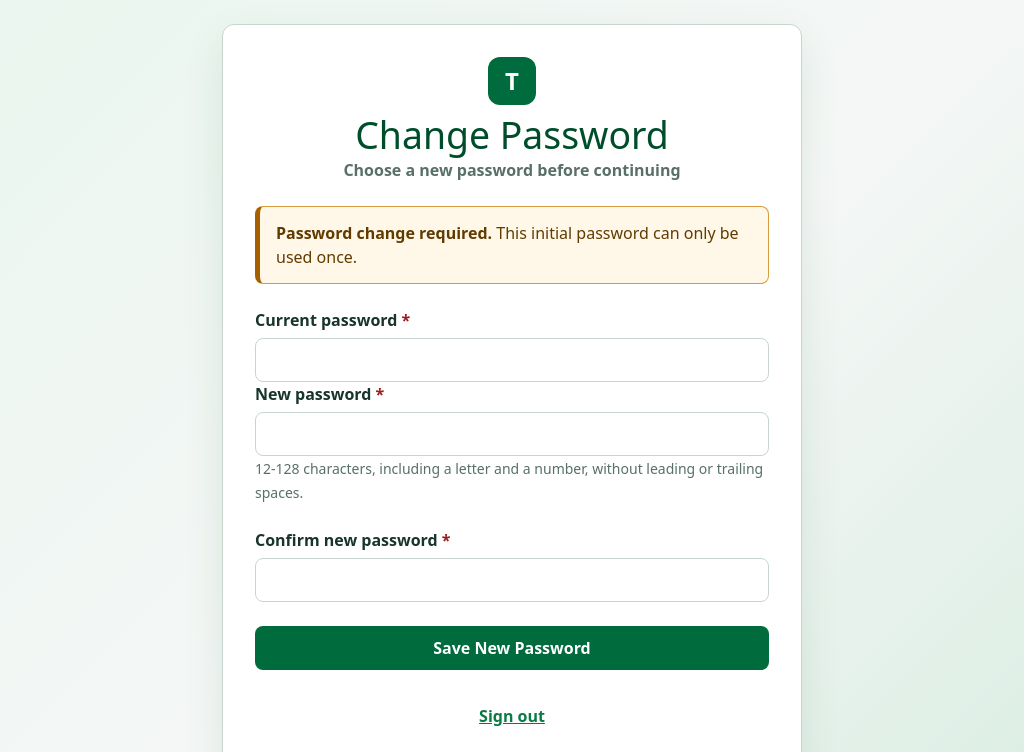
Scenario: mandatory password change › requires the current password, password rules, and confirmation
The width and height of the screenshot is (1024, 752).
Expected: the heading "Change Password" is shown, x1=355 y1=109 x2=669 y2=160
In the password field labelled "New password *": (512, 434) x1=255 y1=412 x2=769 y2=456, type "new-password"
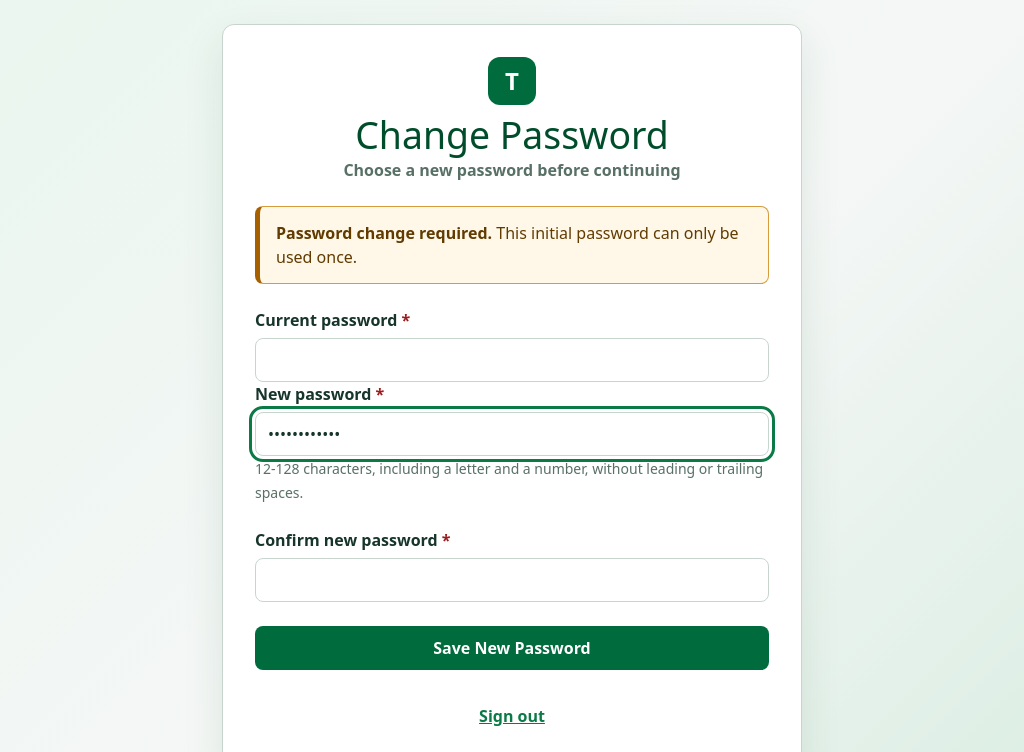
In the password field labelled "Confirm new password *": (512, 580) x1=255 y1=558 x2=769 y2=602, type "different1"
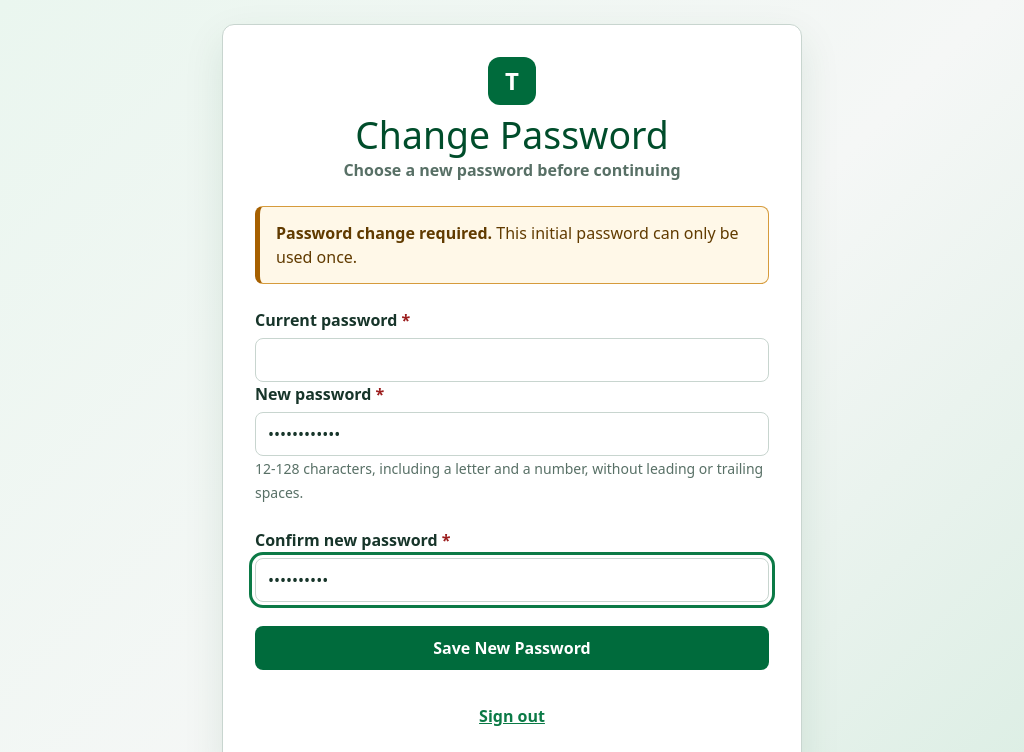
Click the button "Save New Password": (512, 648) x1=255 y1=626 x2=769 y2=670
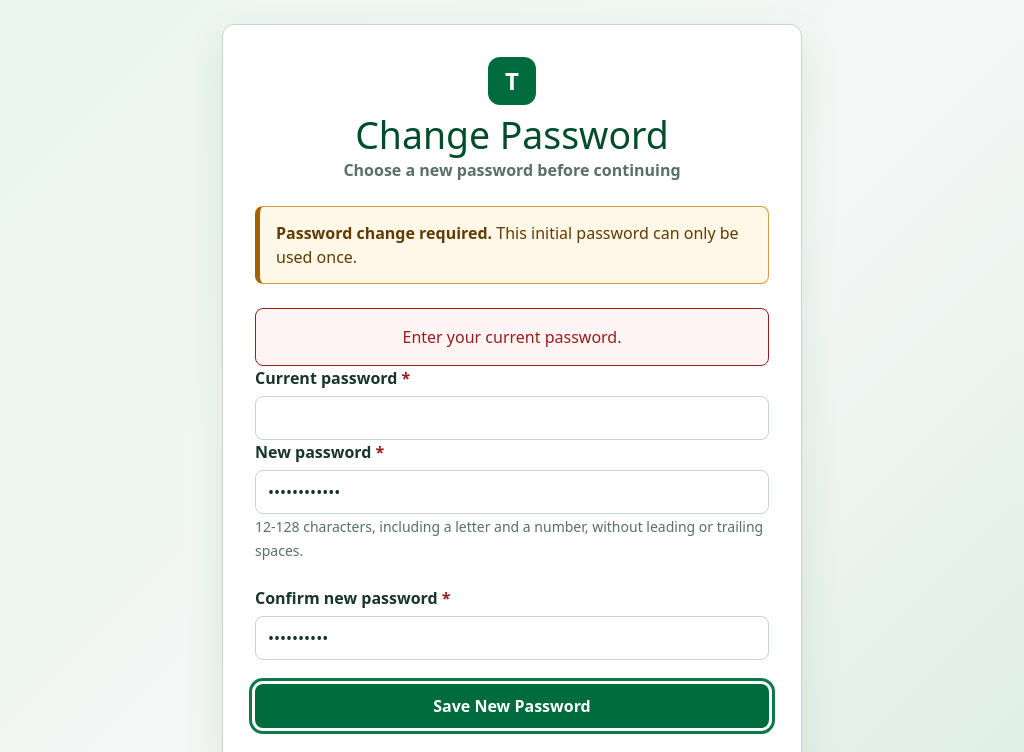
Now the message shows "current password", box x1=402 y1=326 x2=622 y2=348
